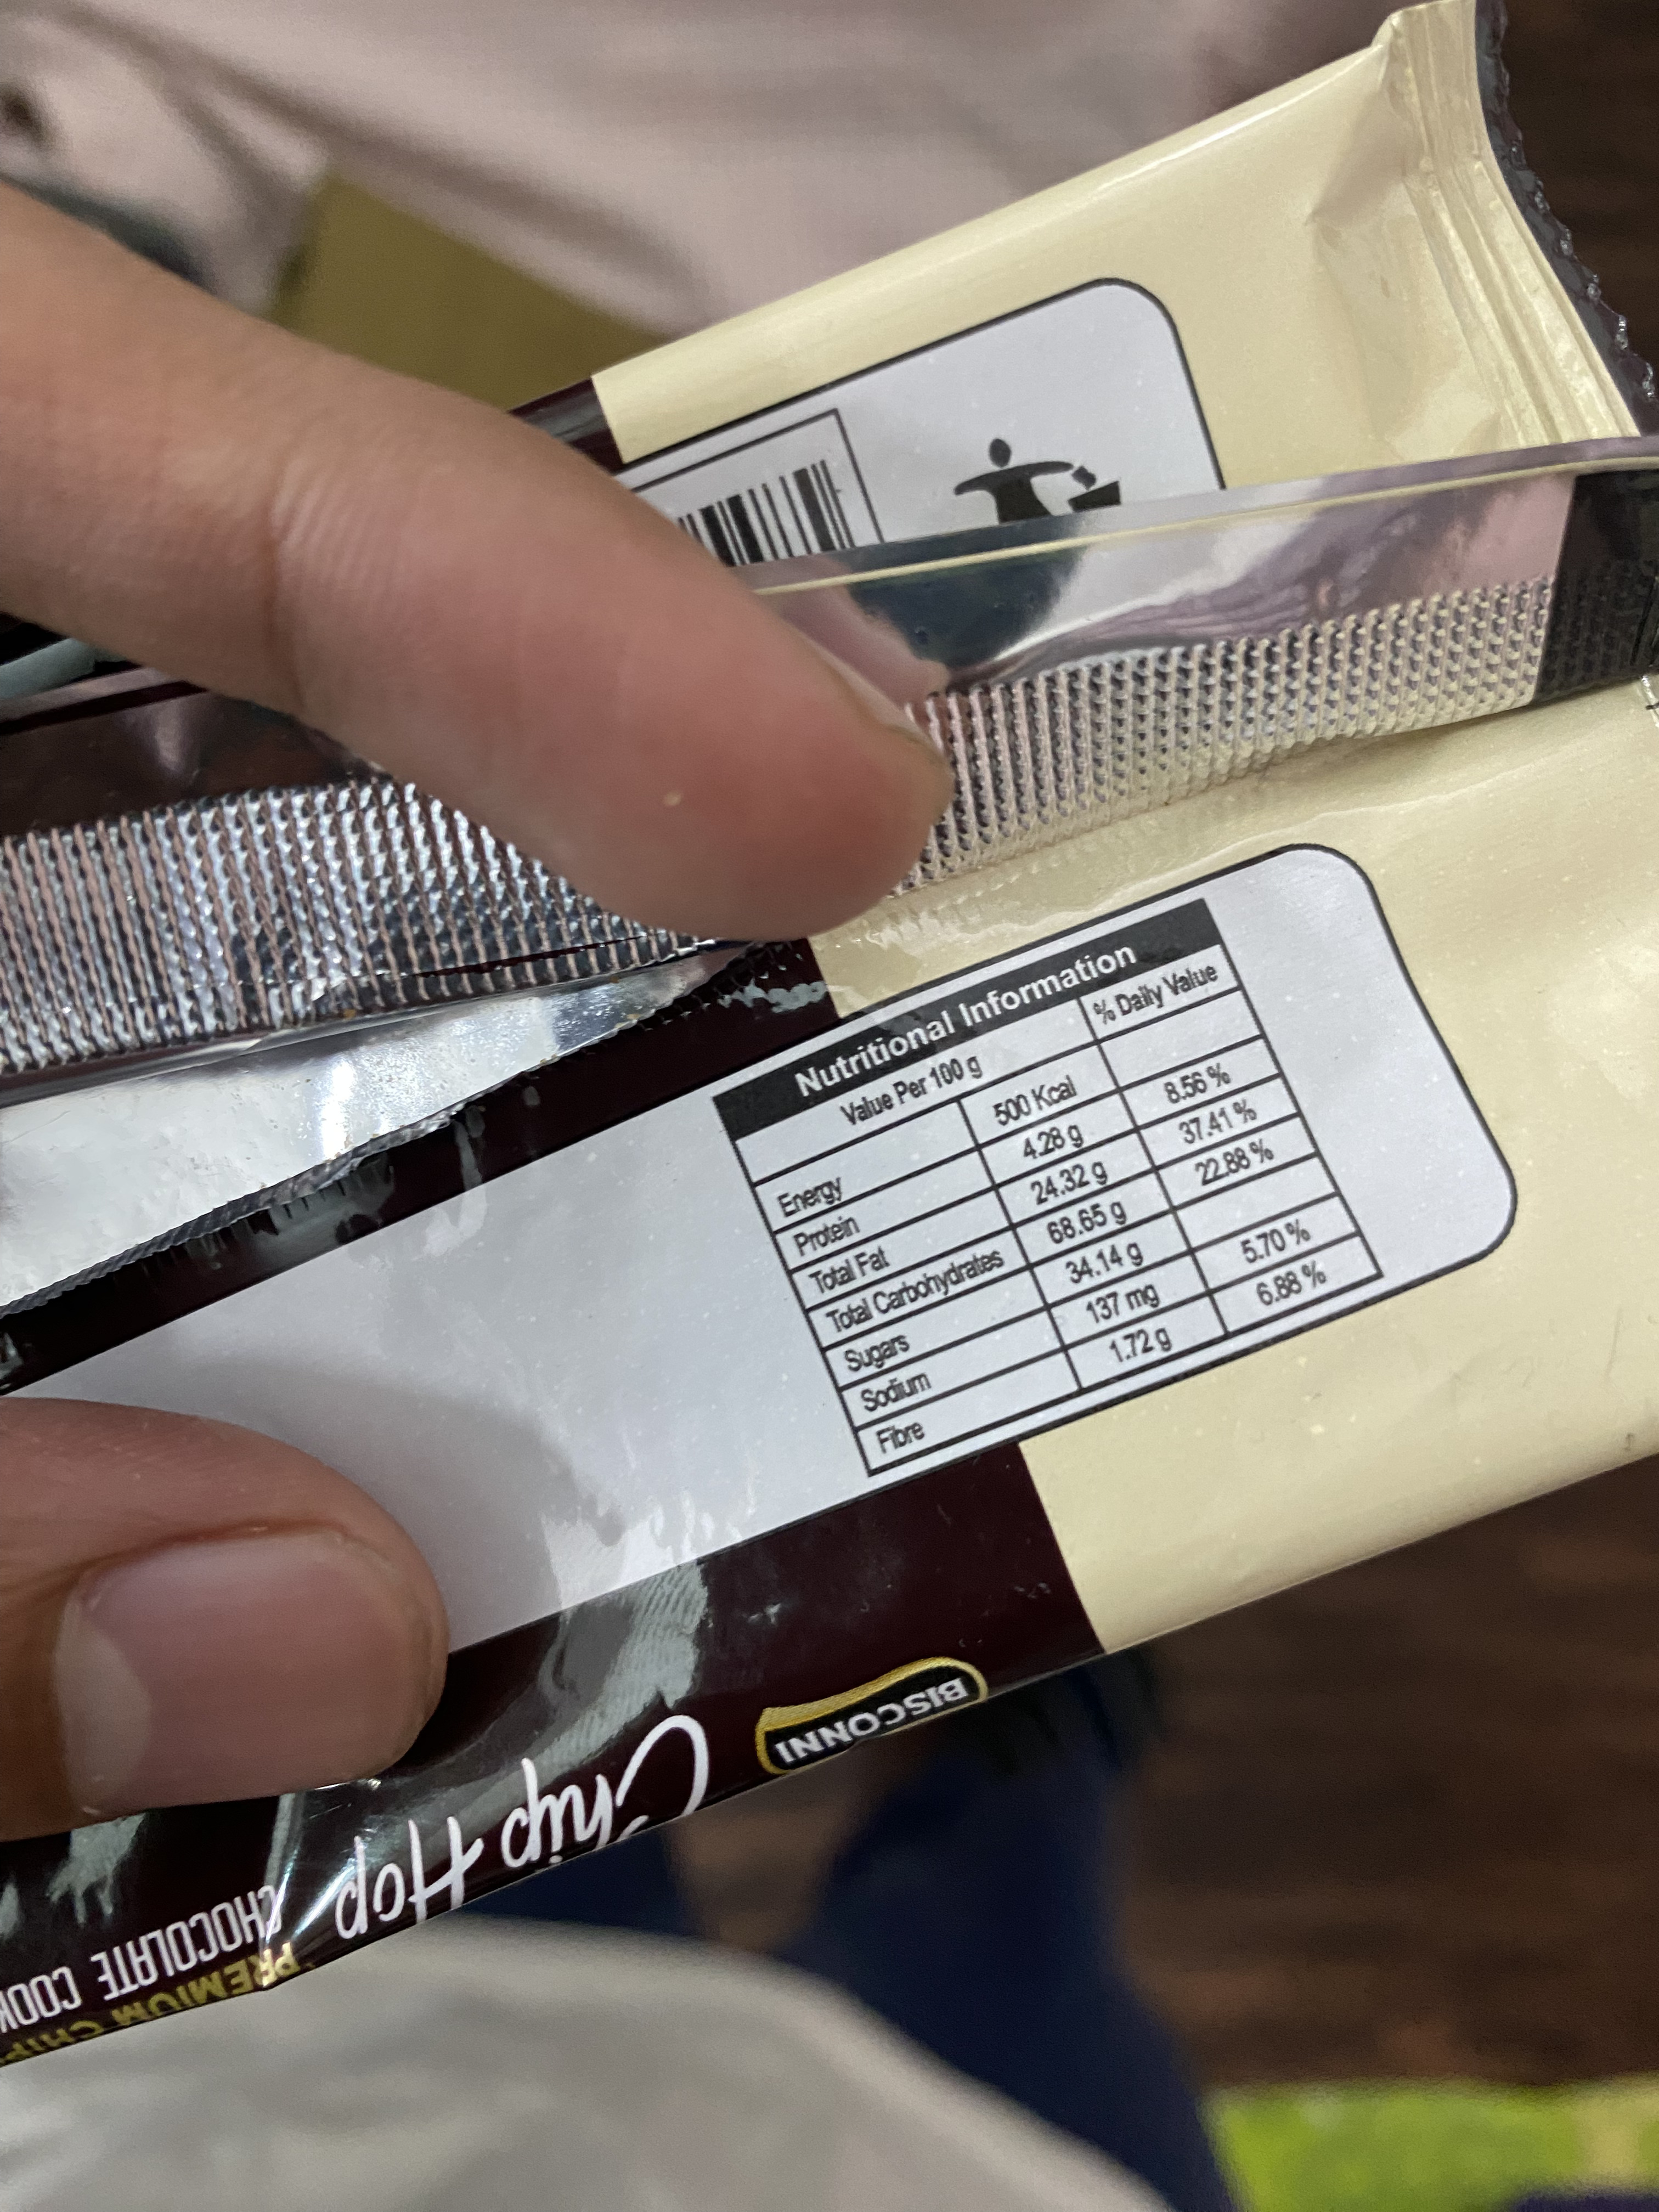table: (702, 894, 1401, 1480)
